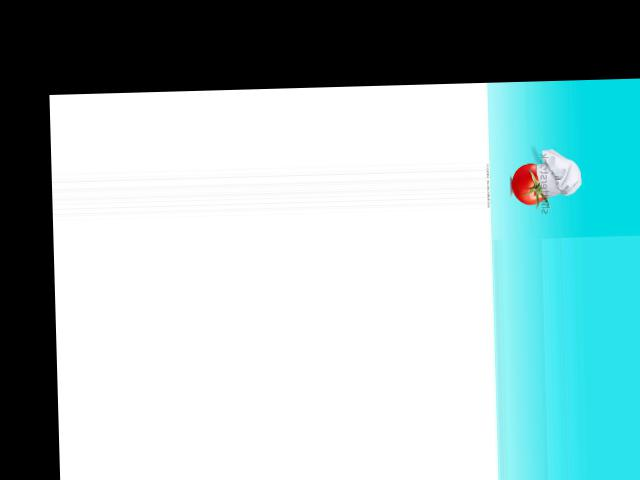tomato: (512, 163, 547, 204)
